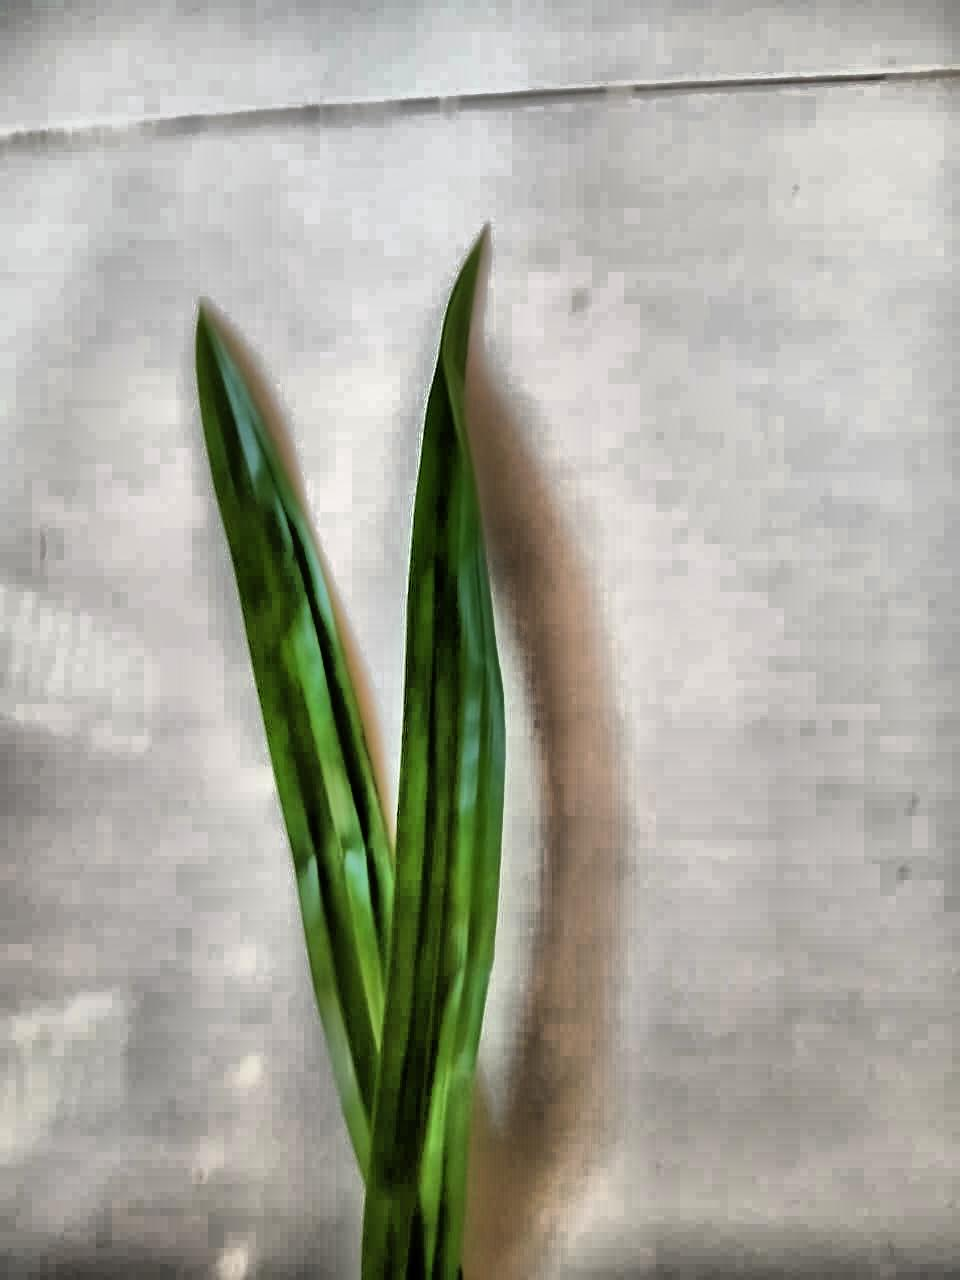daun pandan: (196, 237, 505, 1279)
